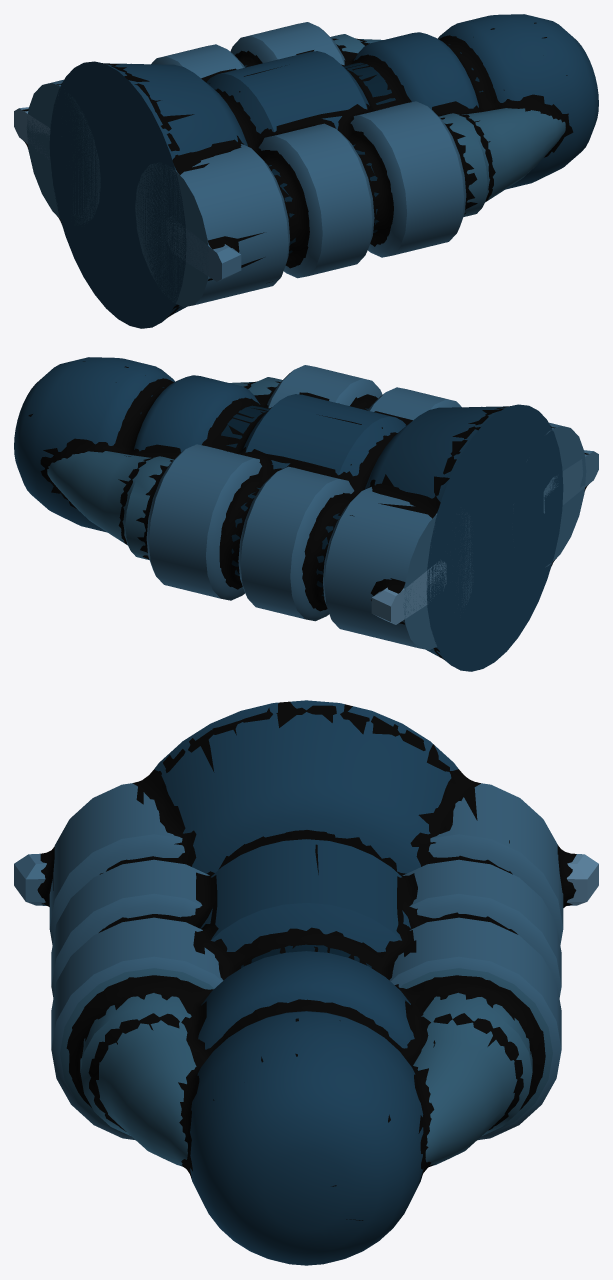
Rendered from newsh-caret-206.glb.
3 renders of one model, top to bottom at view 1: azimuth 30°, elevation 25°; view 2: azimuth 150°, elevation 25°; view 3: azimuth 270°, elevation 25°, orthographic. The views are drawn at different scales.
Parts seen in each view (by area): view 1: newsh-caret-206, newsh-caret-206_outline; view 2: newsh-caret-206, newsh-caret-206_outline; view 3: newsh-caret-206, newsh-caret-206_outline.
Boxes of the visible parts, left/top/right/bottom form: newsh-caret-206: left=14, top=14, right=598, bottom=328; newsh-caret-206_outline: left=22, top=22, right=573, bottom=319; newsh-caret-206: left=14, top=357, right=598, bottom=671; newsh-caret-206_outline: left=28, top=361, right=588, bottom=659; newsh-caret-206: left=14, top=700, right=598, bottom=1265; newsh-caret-206_outline: left=37, top=701, right=576, bottom=1220.
Bounding box in the file's own units: 1.83 × 0.9362 × 1.42.
